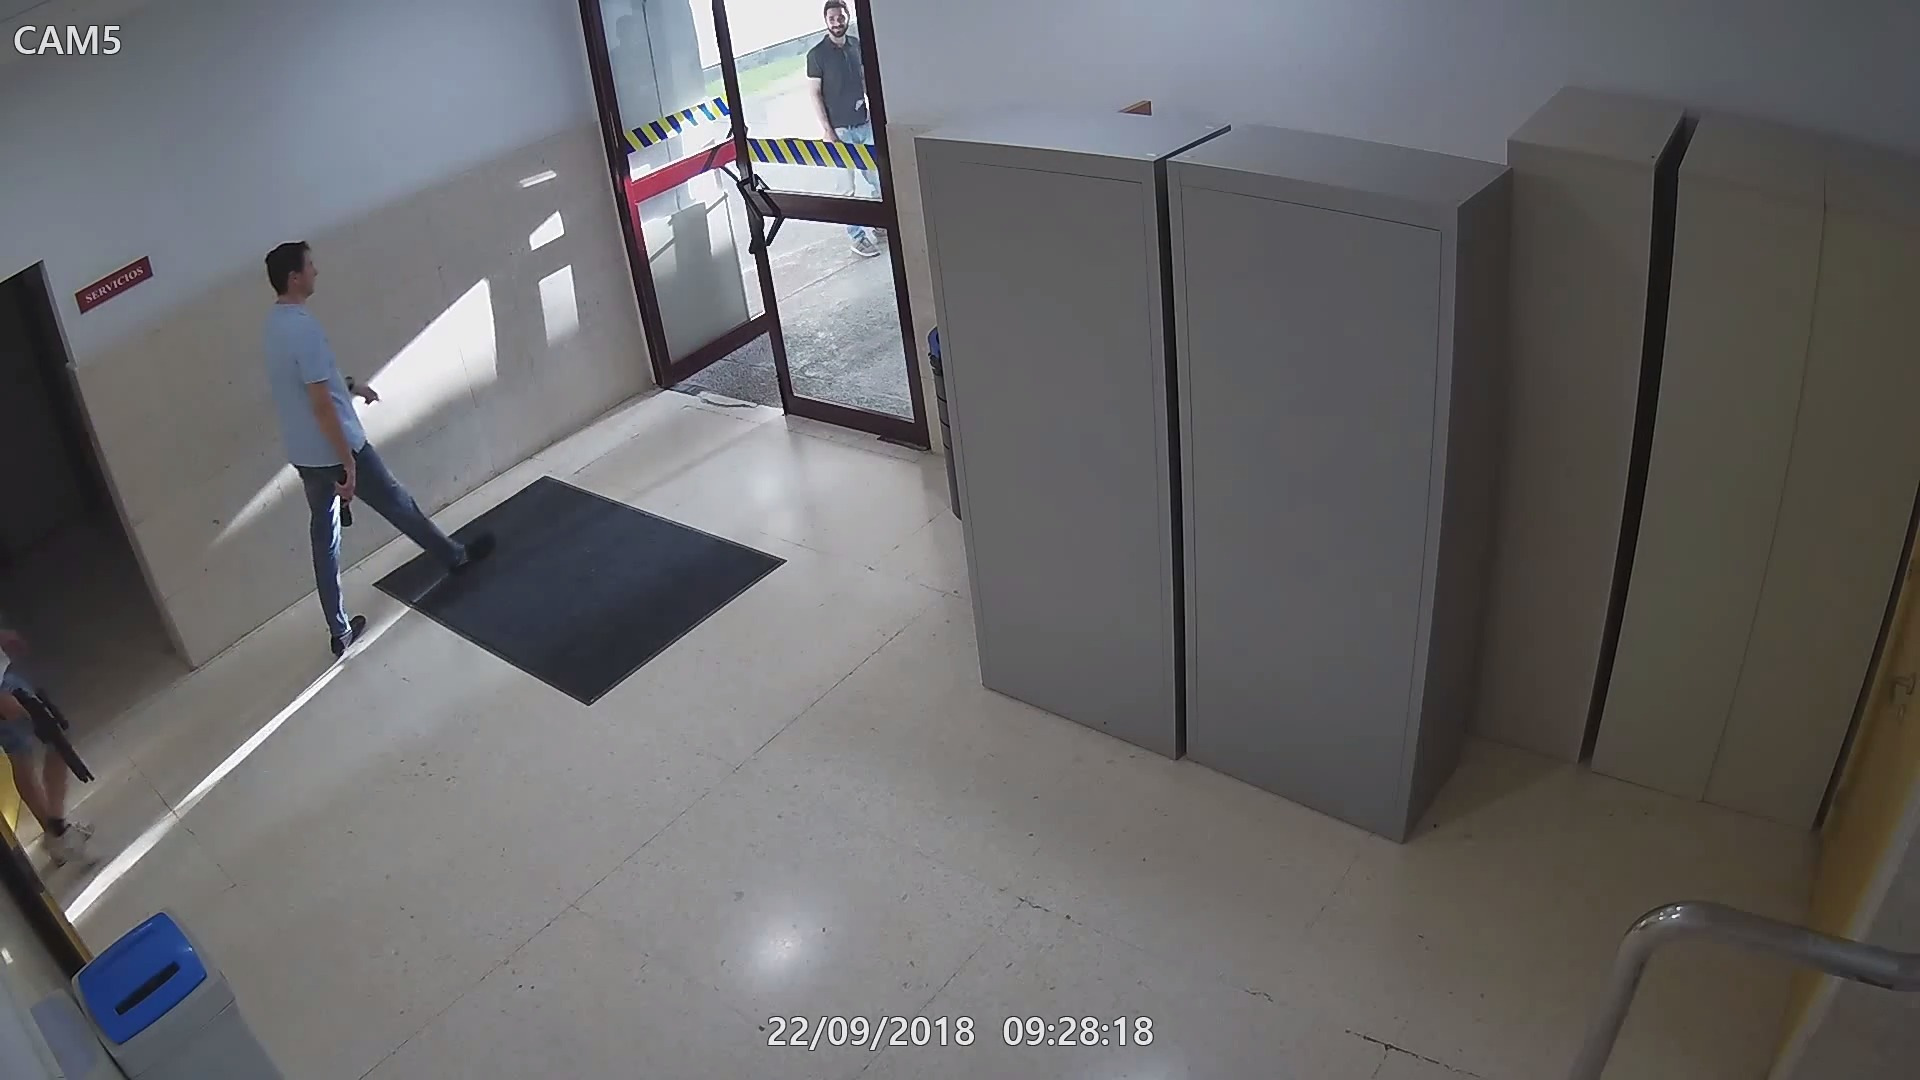rifle: (0, 680, 99, 785)
